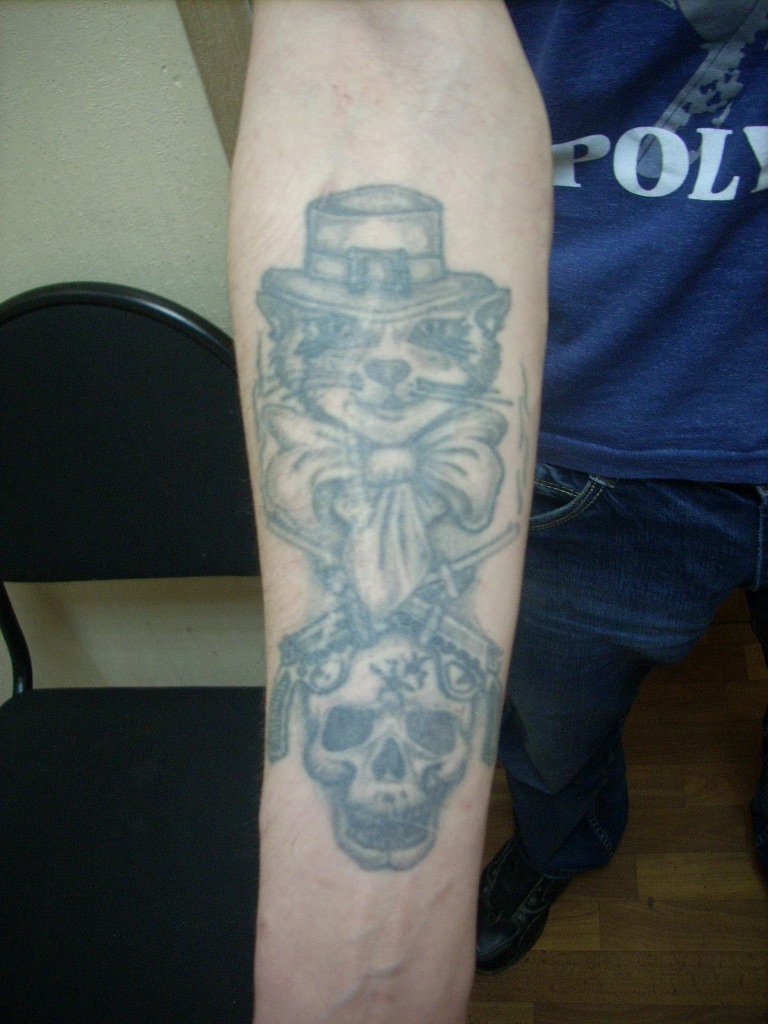tatu8_kot: (214, 157, 539, 888)
